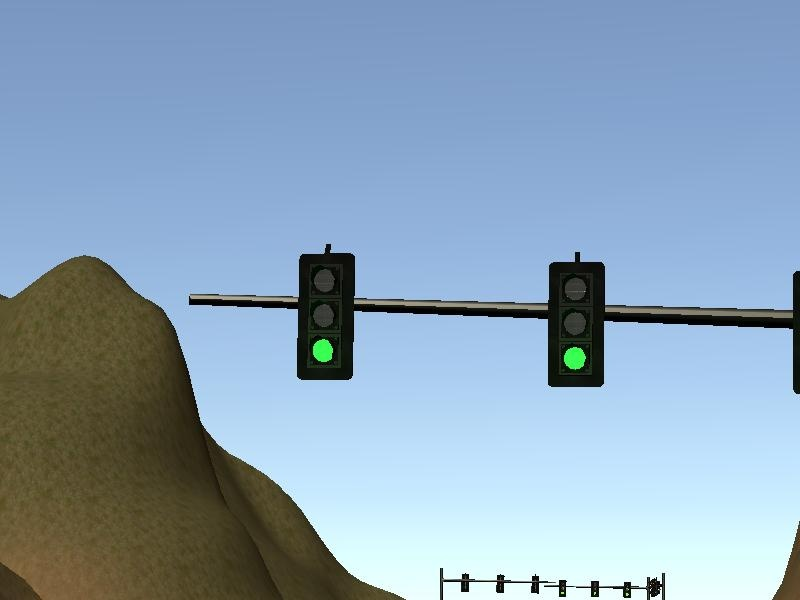green: (543, 257, 613, 393), (293, 251, 359, 389)
